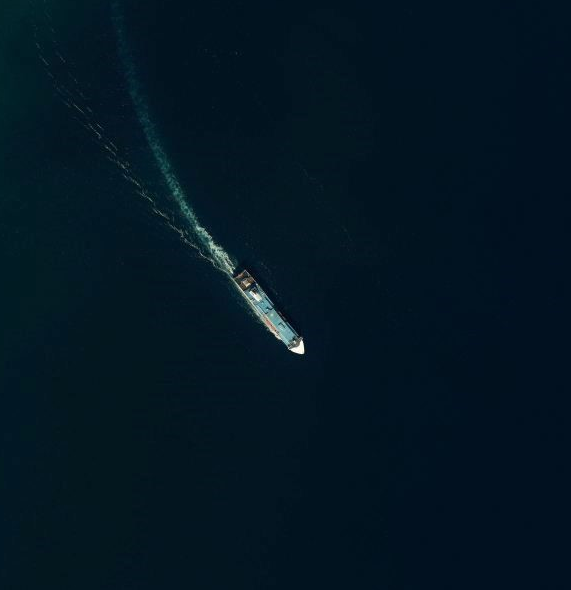ship: (228, 267, 311, 359)
